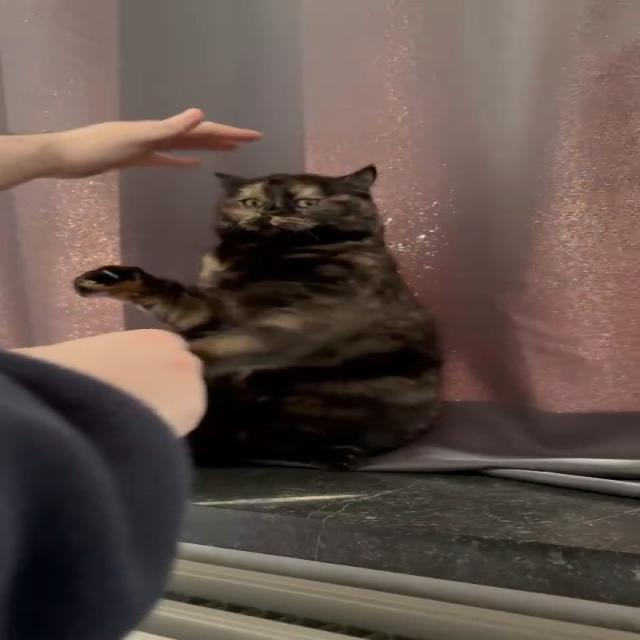authorized: (72, 163, 445, 471)
